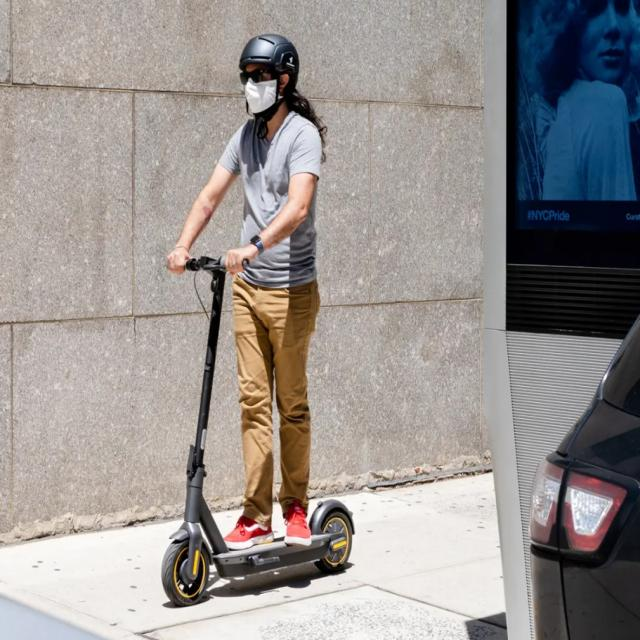helmet: (120, 19, 388, 615)
